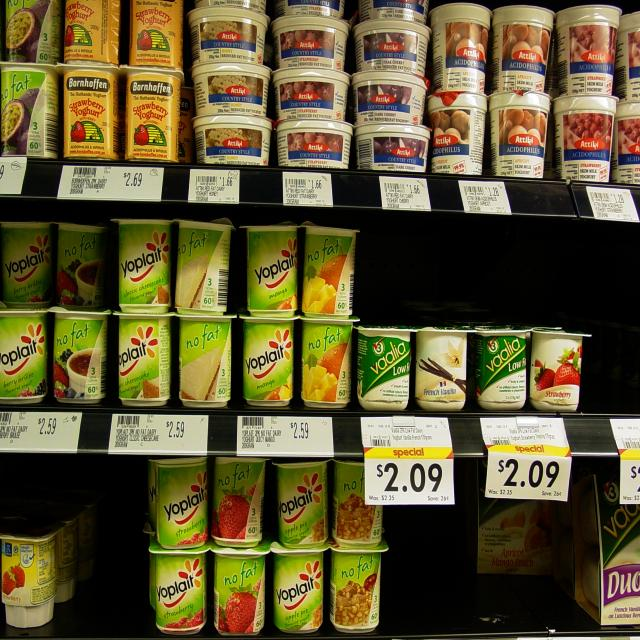empty_space: (393, 240, 607, 312), (391, 519, 477, 617), (97, 479, 139, 615), (491, 583, 571, 627), (603, 333, 640, 428)
